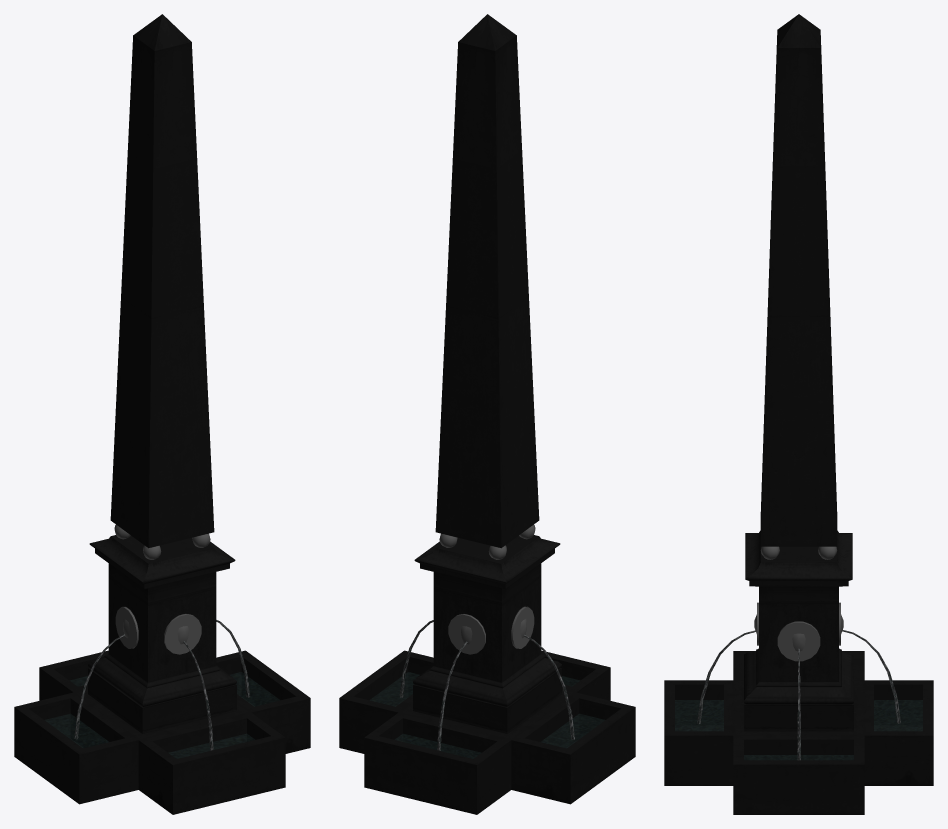
File: obélisque sketchfab.fbx
The picture shows the model from 3 angles, left to right: view 1: azimuth 30°, elevation 25°; view 2: azimuth 150°, elevation 25°; view 3: azimuth 270°, elevation 25°; orthographic projection.
Visible parts, largest first — view 1: obélisque; view 2: obélisque; view 3: obélisque.
Part boxes in pixels (<box>): obélisque: <box>14,14,310,814</box>; obélisque: <box>339,14,635,814</box>; obélisque: <box>664,14,933,814</box>.
Size of the model in its own units: 254 by 773 by 254.
3 materials, 3 textured.
